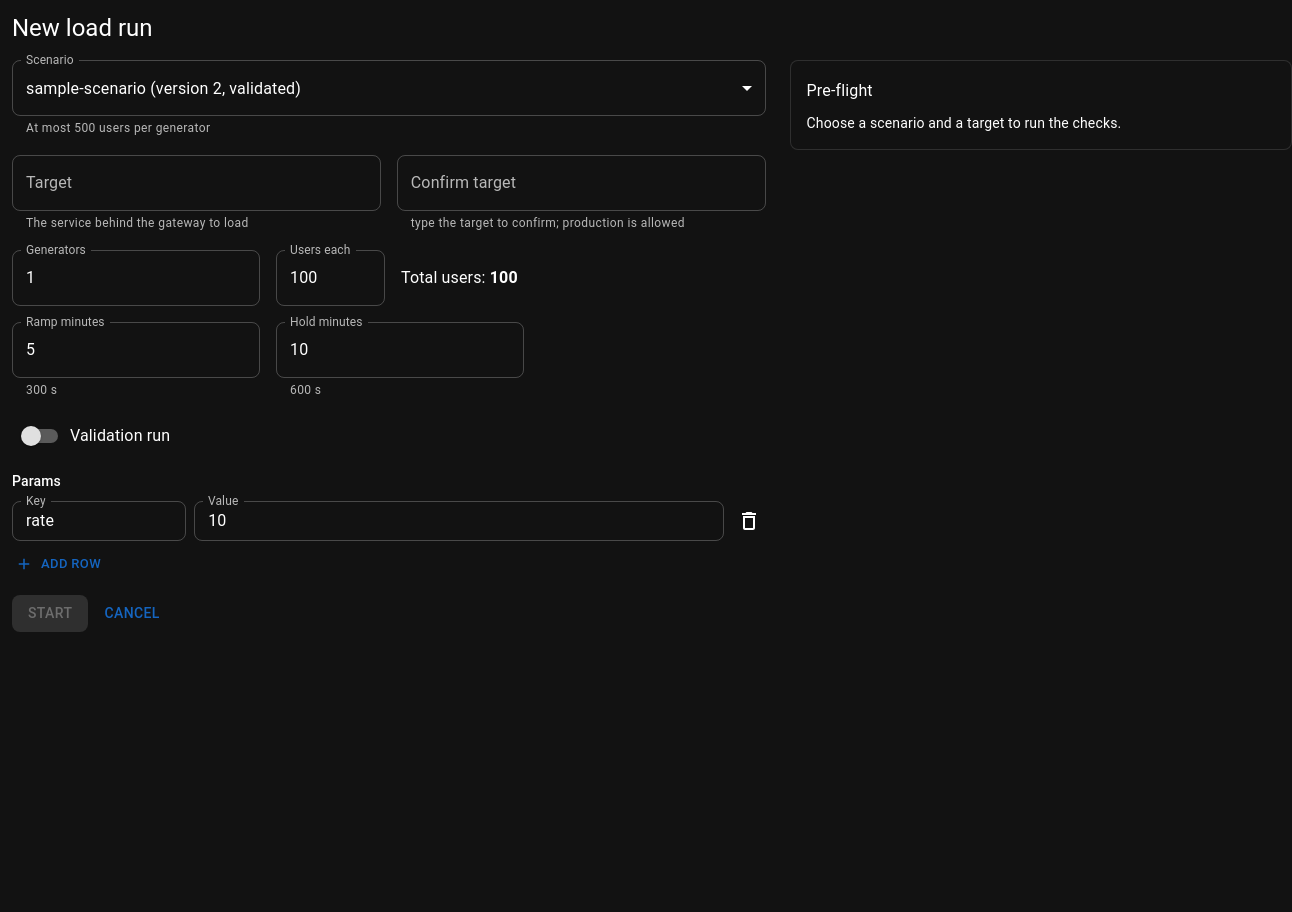
Test: LoadRunFormPage › shows the checks from a 409 preflight_failed answer
Step 1. Type "svc" into the field labelled "Target" → (196, 183), box [12, 155, 381, 211]
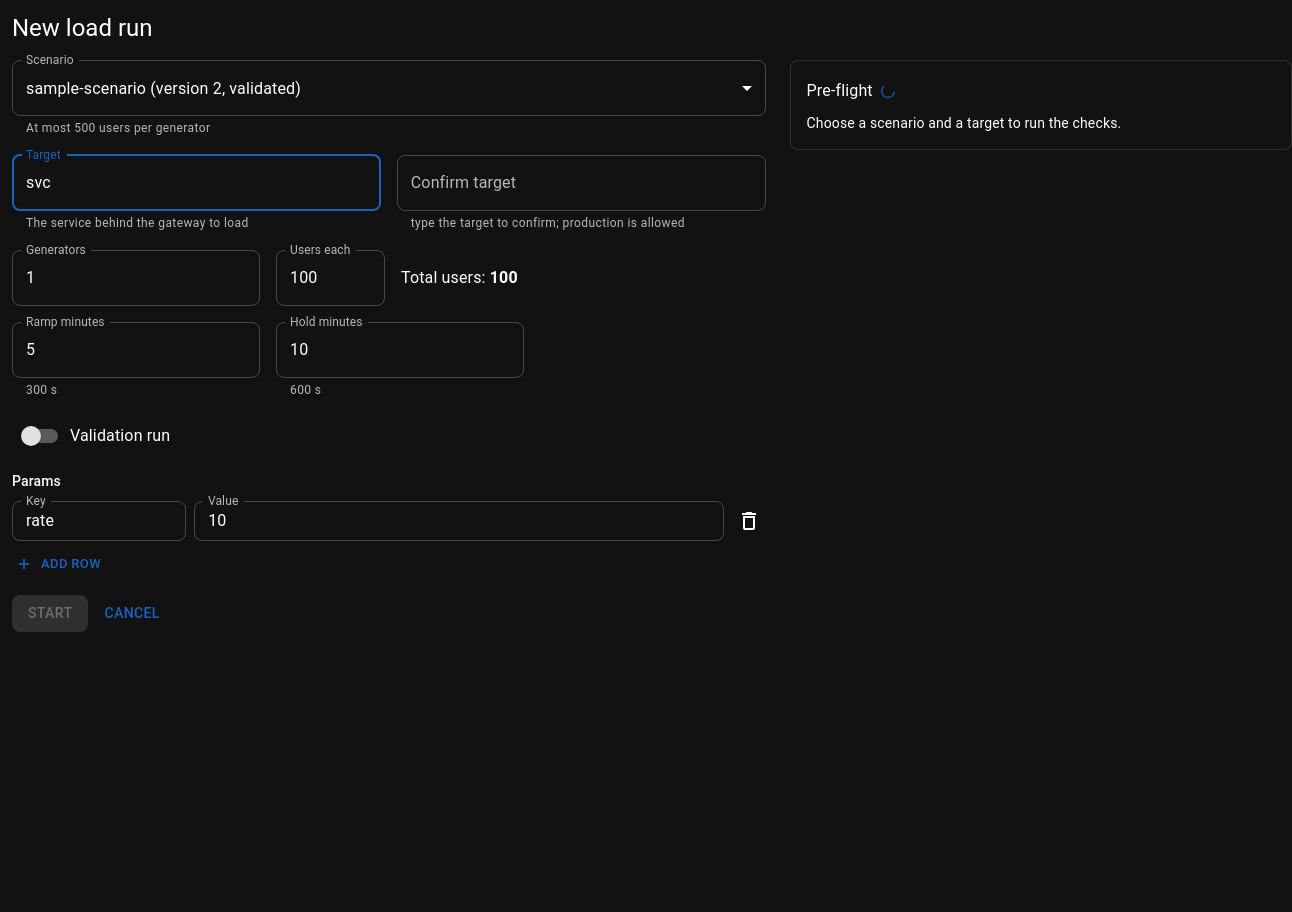
Step 2. Type "svc" into the field labelled "Confirm target" → (581, 183), box [397, 155, 766, 211]
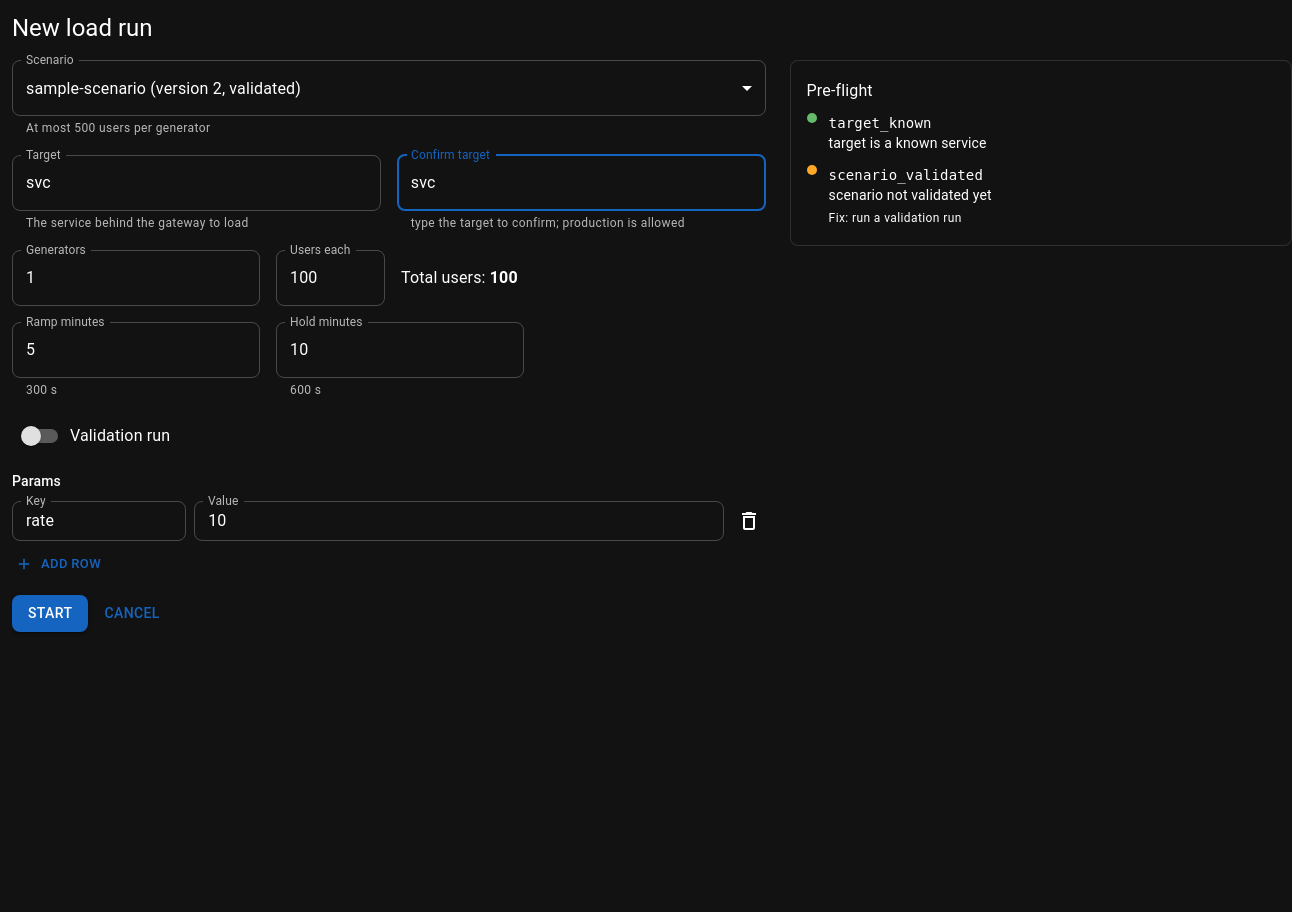
Expected: the button "Start" is enabled
Step 3. Click the button "Start" → (50, 614), box [12, 596, 88, 632]
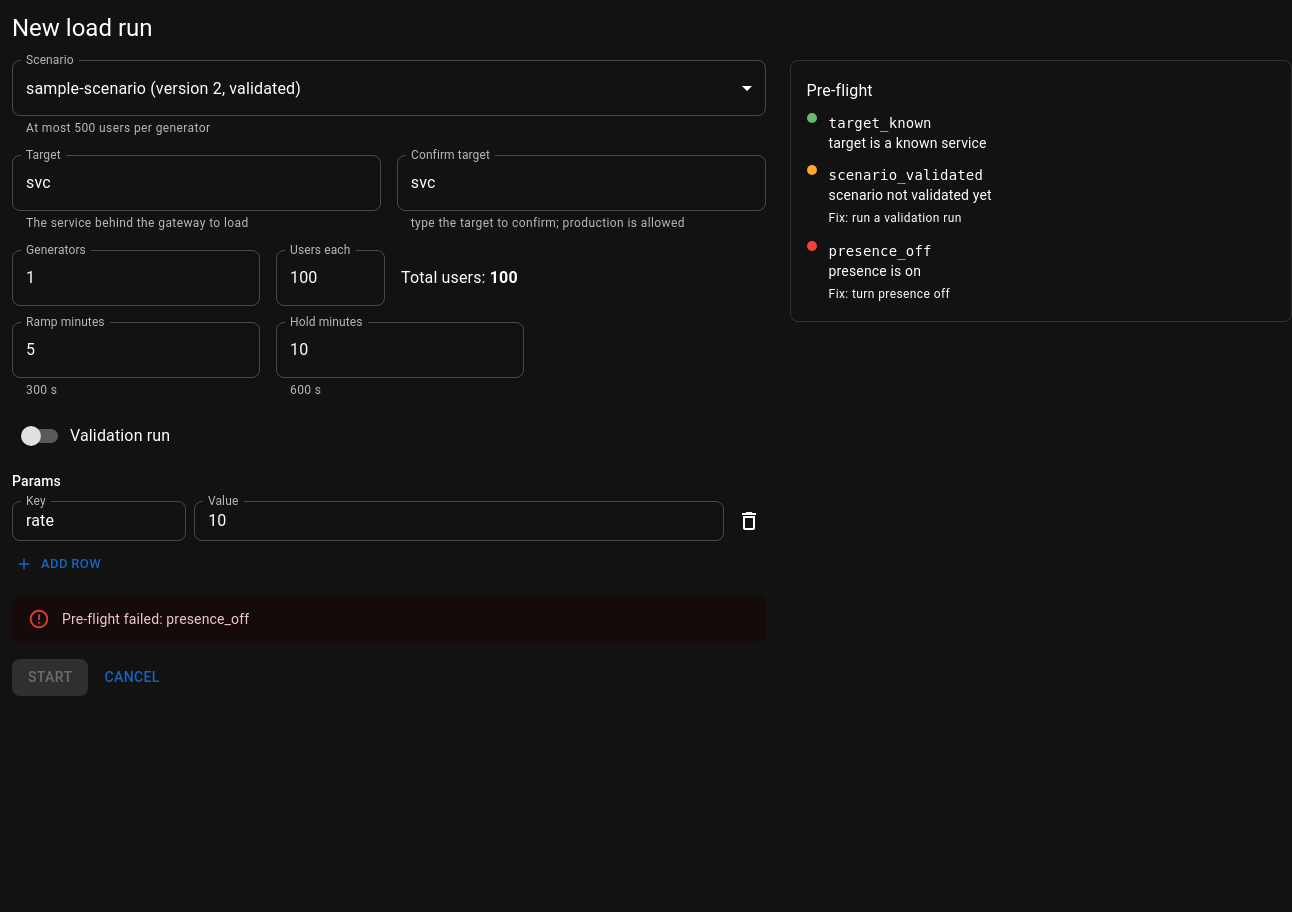
Expected: the text "Pre-flight failed: presence_off" is shown, [62, 612, 249, 628]
Expected: the element with test id "check-presence_off" is shown, [807, 241, 950, 301]
